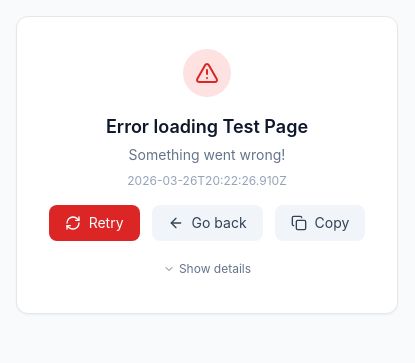
Test: PageErrorBoundary › shows retry count after retrying
Note: Click retry — component will throw again
Step 1. Click the button with test id "page-error-retry" → [94, 223], box [49,205,140,241]
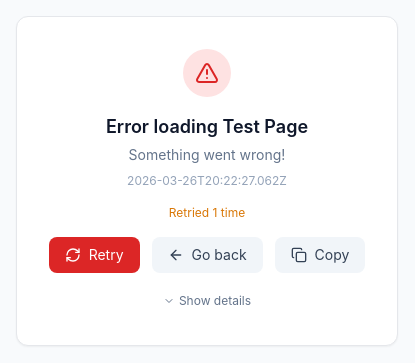
Expected: the text with test id "page-error-retry-count" reads "Retried 1 time", [169,205,245,220]
Note: Retry again
Step 2. Click the button with test id "page-error-retry" → [94, 255], box [49,237,140,273]
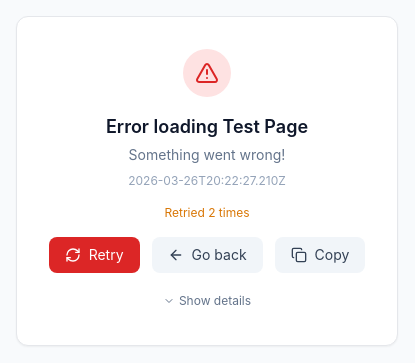
Expected: the text with test id "page-error-retry-count" reads "Retried 2 times", [164,205,250,220]
